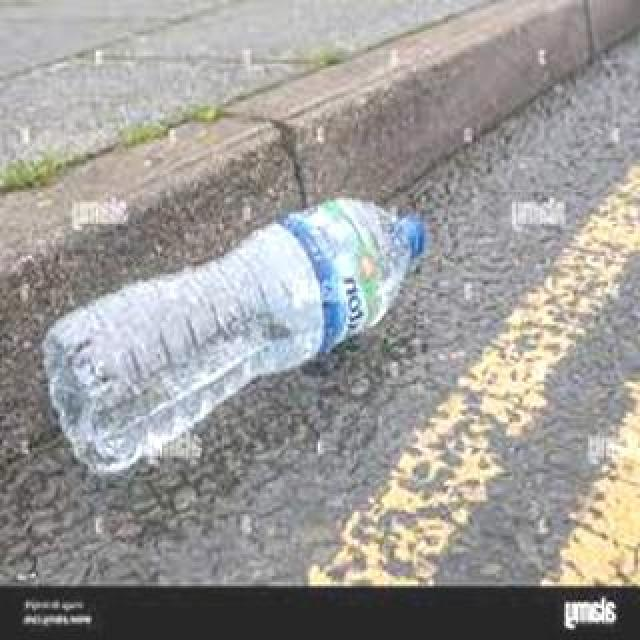Pet_Bottle: (33, 185, 431, 473)
